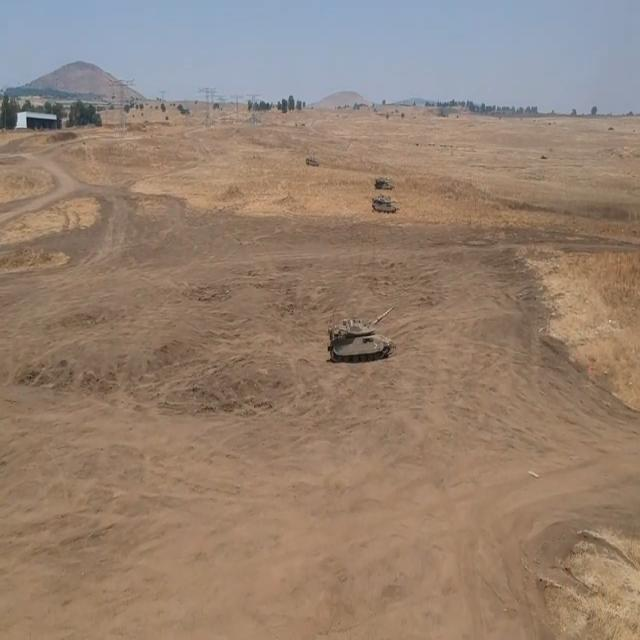tank: (330, 306, 396, 369), (372, 189, 396, 220), (370, 161, 388, 192), (303, 151, 326, 171)
